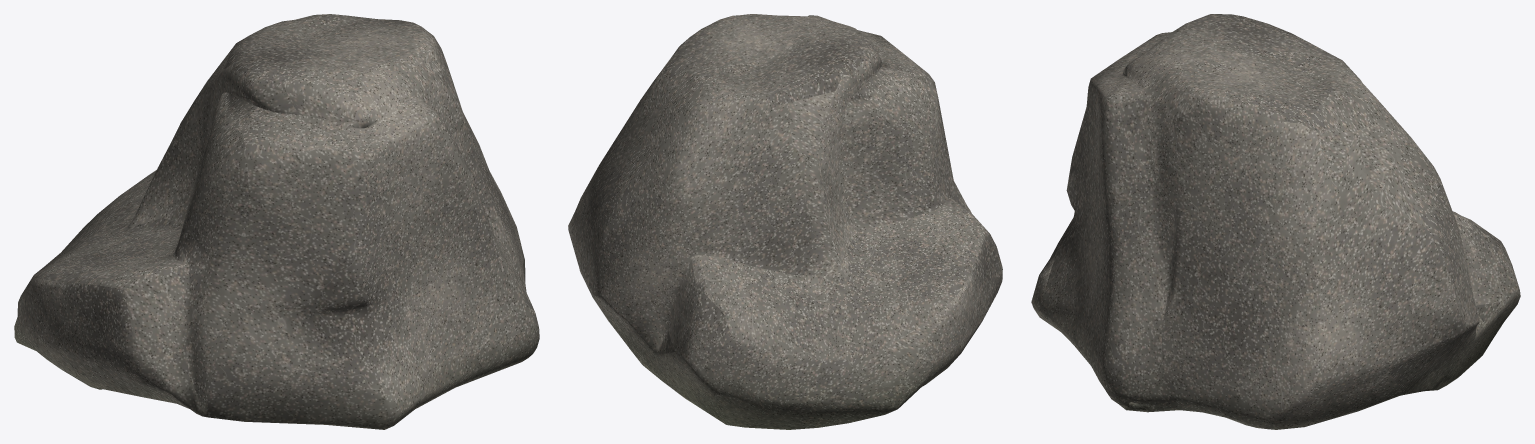
Rendered from Rock_Medium_1.gltf.
3 renders of one model, left to right at view 1: azimuth 30°, elevation 25°; view 2: azimuth 150°, elevation 25°; view 3: azimuth 270°, elevation 25°, orthographic. The views are drawn at different scales.
Visible parts, largest first — view 1: Rock_Medium_1; view 2: Rock_Medium_1; view 3: Rock_Medium_1.
Part boxes in pixels (left/top/right/bottom): Rock_Medium_1: left=14, top=14, right=539, bottom=429; Rock_Medium_1: left=568, top=14, right=1002, bottom=429; Rock_Medium_1: left=1031, top=14, right=1520, bottom=429.
Bounding box in the file's own units: 3.2 × 2.3 × 3.05.
1 material, 1 textured.
